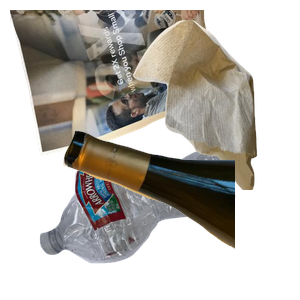glass: (60, 128, 300, 300)
paper: (10, 10, 233, 158)
plastic: (37, 144, 265, 300)
trash: (131, 17, 300, 197)
